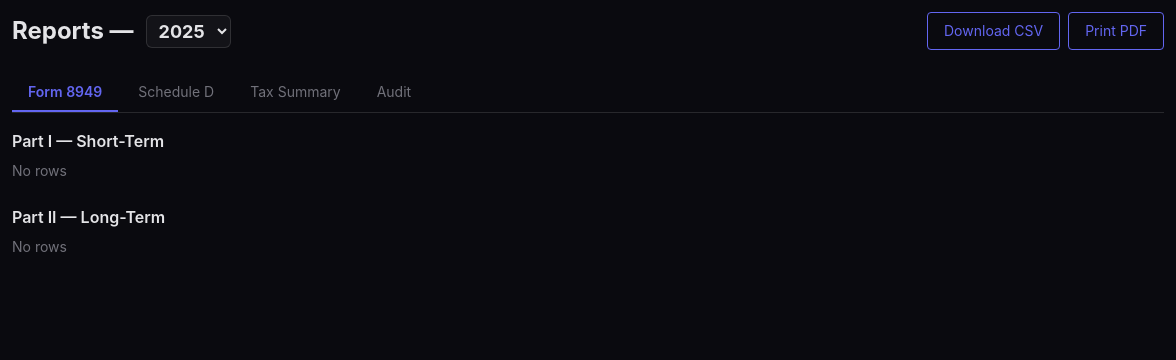
Test: Reports › runs method comparison from Audit tab
Expected: the heading "Part I — Short-Term" is shown, [12, 131, 164, 151]
Click the button "Audit" at (394, 93), box [361, 74, 427, 112]
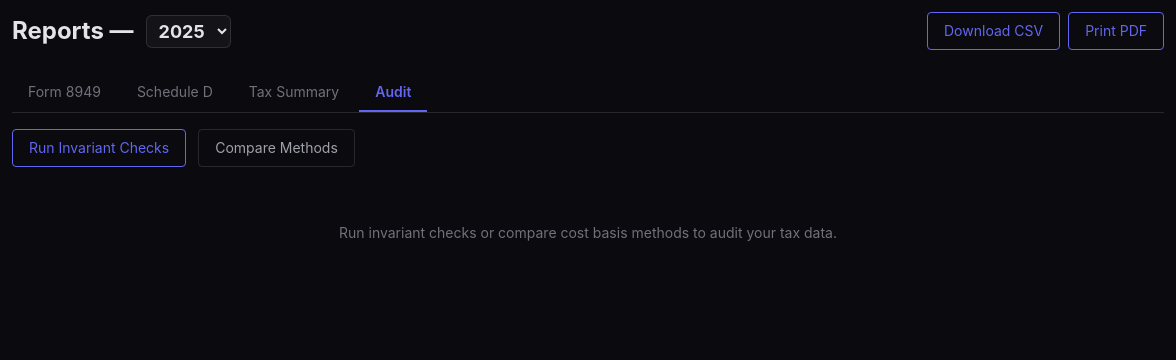
Expected: the button "Compare Methods" is shown
Click the button "Compare Methods" at (276, 148), box [198, 129, 355, 167]
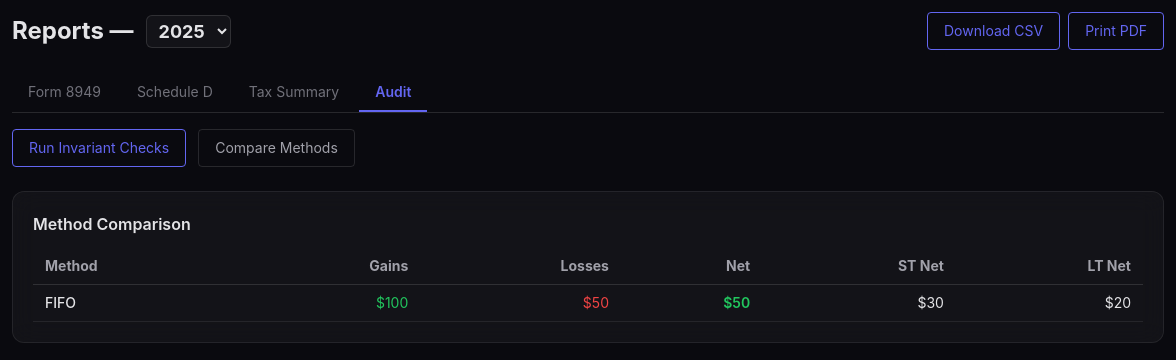
Expected: the text "FIFO" is shown, [33, 284, 246, 322]
